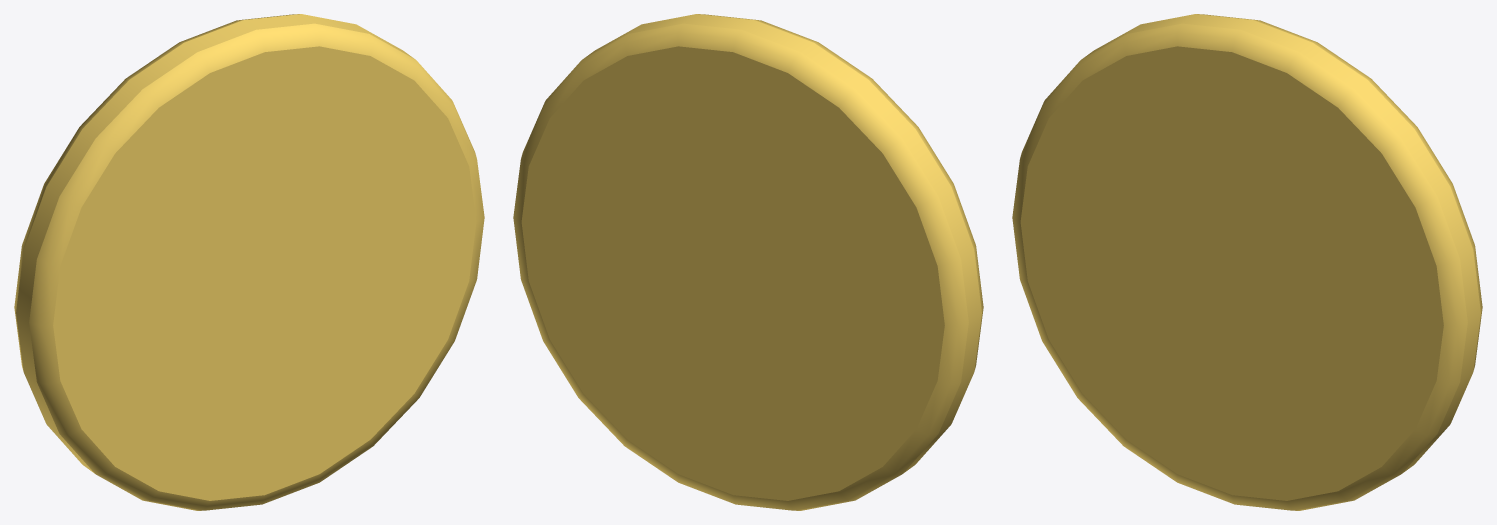
Rendered from coin_spin_bob.fbx.
3 views of the same model, side by side, from view 1: azimuth 30°, elevation 25°; view 2: azimuth 150°, elevation 25°; view 3: azimuth 330°, elevation 25° (orthographic).
Visible parts, largest first — view 1: Coin_Anim; view 2: Coin_Anim; view 3: Coin_Anim.
Boxes of the visible parts, x1,y1,x2,y2 form: Coin_Anim: (14,14,484,510); Coin_Anim: (513,14,983,510); Coin_Anim: (1012,14,1482,510).
Size of the model in its own units: 1.2 by 1.2 by 0.14.
